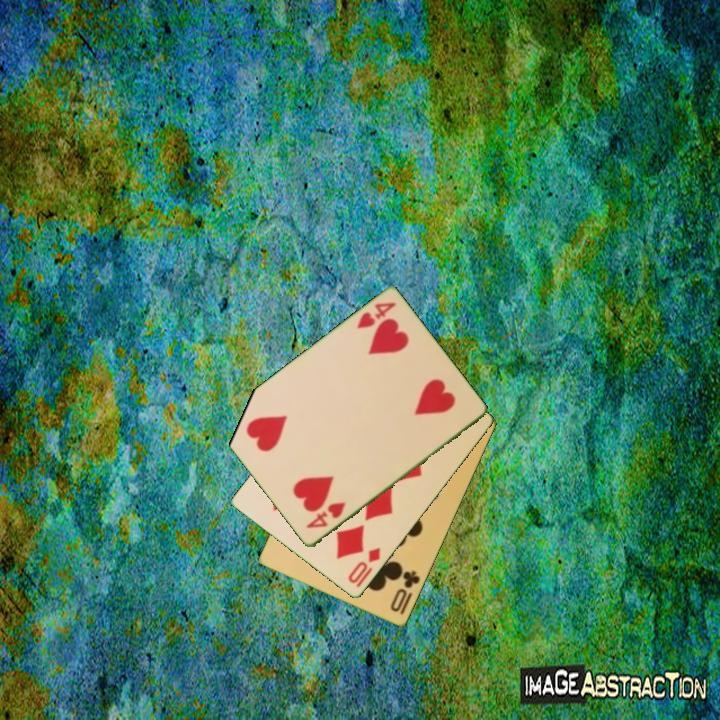10c: (387, 567, 423, 615)
10d: (344, 544, 384, 587)
4h: (302, 499, 349, 532), (353, 299, 399, 332)
